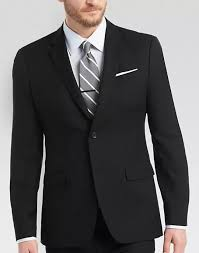F_M_suit jacket: (2, 14, 192, 248)
F_tie: (76, 40, 105, 112)
